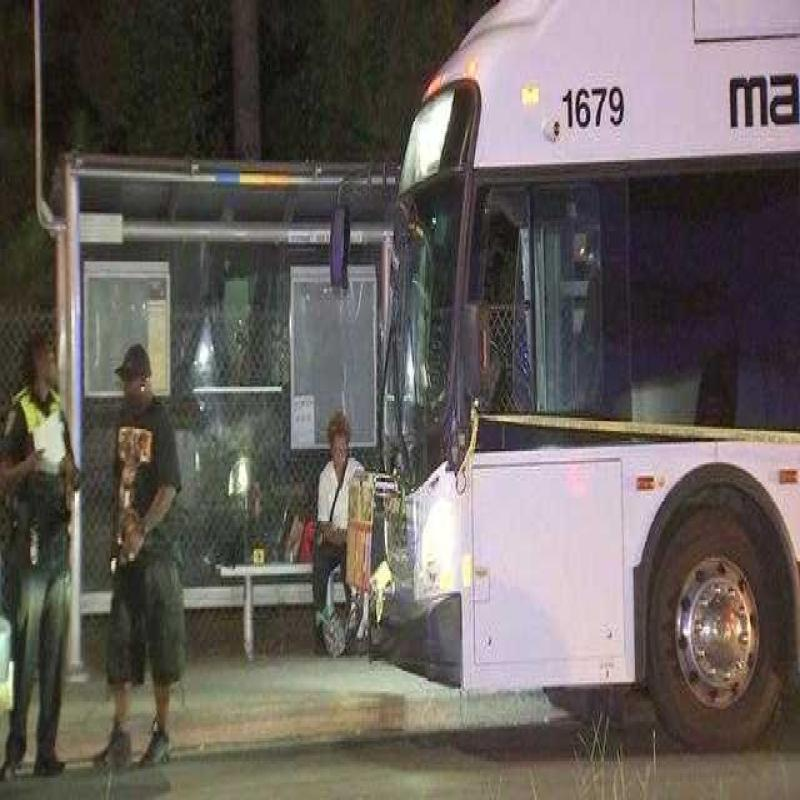bus: (369, 16, 796, 750)
